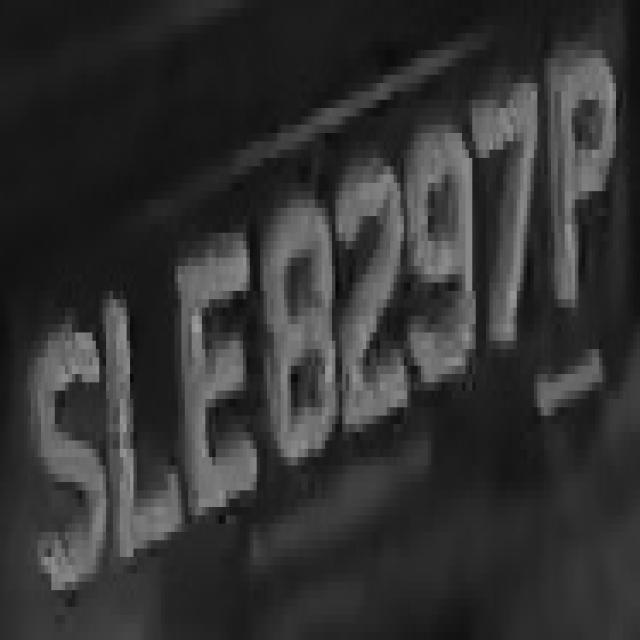2: (332, 133, 414, 465)
7: (455, 75, 544, 374)
8: (260, 158, 342, 507)
9: (404, 92, 476, 440)
E: (182, 208, 264, 557)
L: (100, 266, 182, 590)
P: (551, 34, 619, 332)
S: (24, 300, 109, 598)
